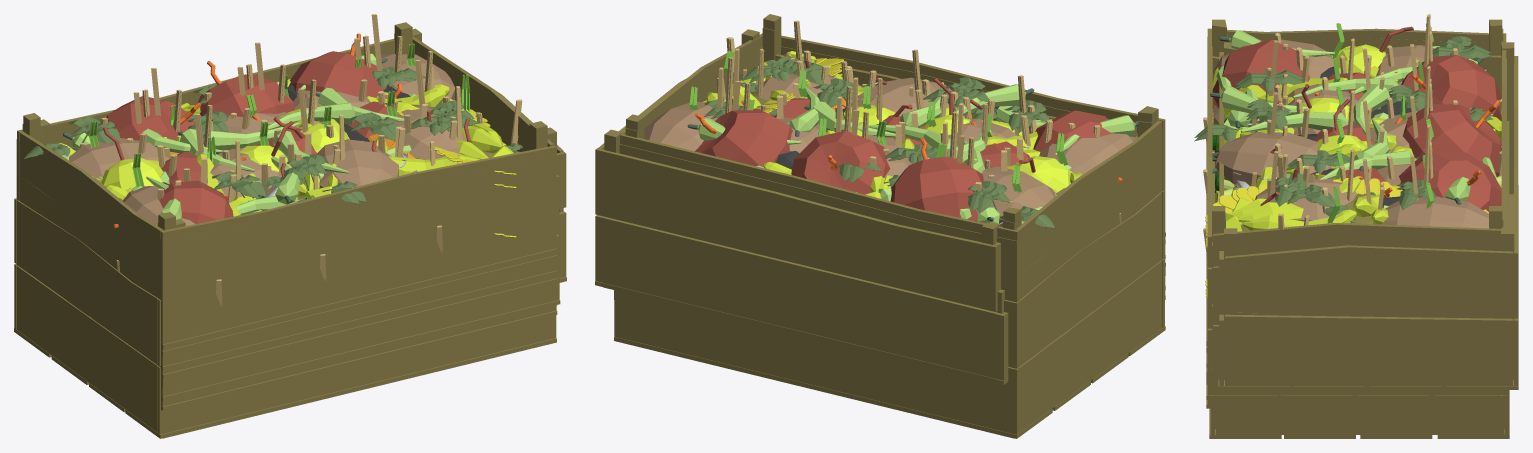
Rendered from fullfruitboxes.fbx.
The picture shows the model from 3 angles, left to right: view 1: azimuth 30°, elevation 25°; view 2: azimuth 150°, elevation 25°; view 3: azimuth 270°, elevation 25°; orthographic projection. The views are drawn at different scales.
Visible parts, largest first — view 1: fullfruitbox21, fullfruitbox03, fullfruitbox22, fullfruitbox04, fullfruitbox27, fullfruitbox17, fullfruitbox19, fullfruitbox23, fullfruitbox13, fullfruitbox01, fullfruitbox05, fullfruitbox06 (+10 smaller); view 2: fullfruitbox05, fullfruitbox03, fullfruitbox27, fullfruitbox21, fullfruitbox17, fullfruitbox09, fullfruitbox04, fullfruitbox23, fullfruitbox06, fullfruitbox13, fullfruitbox19, fullfruitbox01 (+5 smaller); view 3: fullfruitbox05, fullfruitbox17, fullfruitbox04, fullfruitbox21, fullfruitbox27, fullfruitbox03, fullfruitbox23, fullfruitbox13, fullfruitbox06, fullfruitbox09, fullfruitbox01, fullfruitbox07 (+6 smaller).
Boxes of the visible parts, x1,y1,x2,y2 form: fullfruitbox21: (17,33,557,378); fullfruitbox03: (14,14,554,438); fullfruitbox22: (18,175,557,348); fullfruitbox04: (80,14,556,438); fullfruitbox27: (17,22,557,370); fullfruitbox17: (106,33,560,399); fullfruitbox19: (101,110,557,410); fullfruitbox23: (17,53,557,387); fullfruitbox13: (29,80,554,381); fullfruitbox01: (17,53,557,382); fullfruitbox05: (24,28,566,282); fullfruitbox06: (39,66,522,202); fullfruitbox05: (595,29,1137,382); fullfruitbox03: (616,20,1165,438); fullfruitbox27: (620,14,1165,343); fullfruitbox21: (637,25,1165,301); fullfruitbox17: (614,47,1122,299); fullfruitbox09: (619,27,1162,368); fullfruitbox04: (614,20,1121,438); fullfruitbox23: (687,35,1165,278); fullfruitbox06: (603,56,1039,384); fullfruitbox13: (638,31,1142,301); fullfruitbox19: (804,59,1165,366); fullfruitbox01: (637,30,1165,367); fullfruitbox05: (1194,36,1518,389); fullfruitbox17: (1206,40,1506,399); fullfruitbox04: (1203,14,1509,438); fullfruitbox21: (1206,28,1501,372); fullfruitbox27: (1206,19,1506,367); fullfruitbox03: (1203,15,1509,433); fullfruitbox23: (1206,30,1499,384); fullfruitbox13: (1207,42,1501,266); fullfruitbox06: (1194,36,1518,318); fullfruitbox09: (1205,28,1506,373); fullfruitbox01: (1206,43,1502,379); fullfruitbox07: (1206,40,1502,373).
Bounding box in the file's own units: 0.6705 × 0.4045 × 0.4318.
